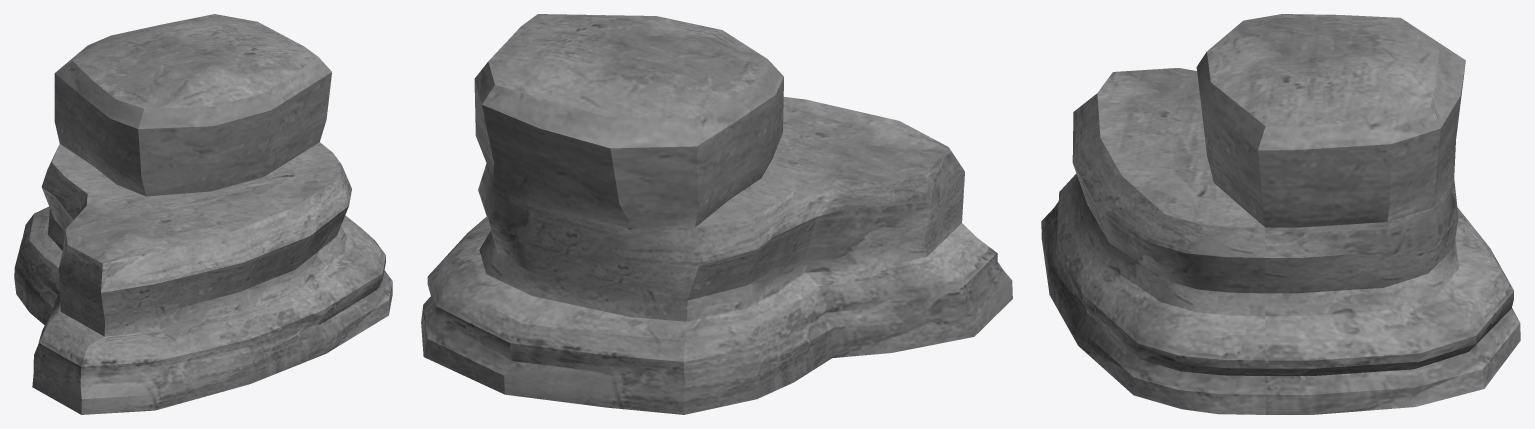
Rendered from lvl1_sea_rock_8.fbx.
3 views of the same model, side by side, from view 1: azimuth 30°, elevation 25°; view 2: azimuth 150°, elevation 25°; view 3: azimuth 270°, elevation 25° (orthographic). The views are drawn at different scales.
Parts seen in each view (by area): view 1: lvl1_sea_rock_8; view 2: lvl1_sea_rock_8; view 3: lvl1_sea_rock_8.
Part boxes in pixels (left/top/right/bottom): lvl1_sea_rock_8: left=14, top=14, right=392, bottom=414; lvl1_sea_rock_8: left=421, top=14, right=1012, bottom=414; lvl1_sea_rock_8: left=1041, top=14, right=1520, bottom=414.
Bounding box in the file's own units: 10387 × 6150 × 9750.
